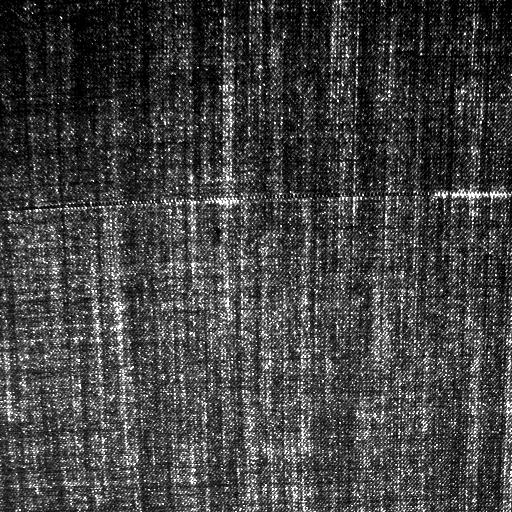fabric_hole: (15, 175, 495, 221)
